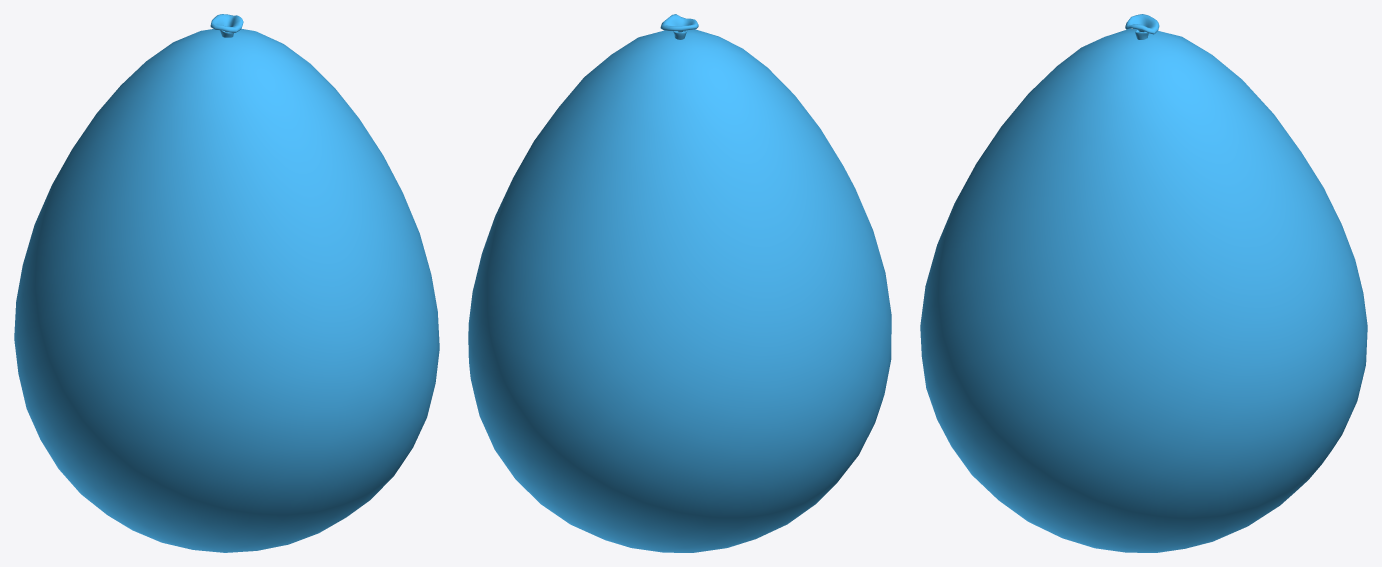
File: ballon-stripped-centered-blue.obj
3 renders of one model, left to right at view 1: azimuth 30°, elevation 25°; view 2: azimuth 150°, elevation 25°; view 3: azimuth 270°, elevation 25°, orthographic.
Visible parts, largest first — view 1: GeoSphere01, Line01; view 2: GeoSphere01, Line01; view 3: GeoSphere01, Line01.
Part boxes in pixels (<box>): GeoSphere01: <box>14,28,439,552</box>; Line01: <box>210,14,243,37</box>; GeoSphere01: <box>468,29,891,552</box>; Line01: <box>660,14,698,39</box>; GeoSphere01: <box>920,29,1367,552</box>; Line01: <box>1125,14,1159,39</box>.
Bounding box in the file's own units: 98.45 × 133 × 105.
